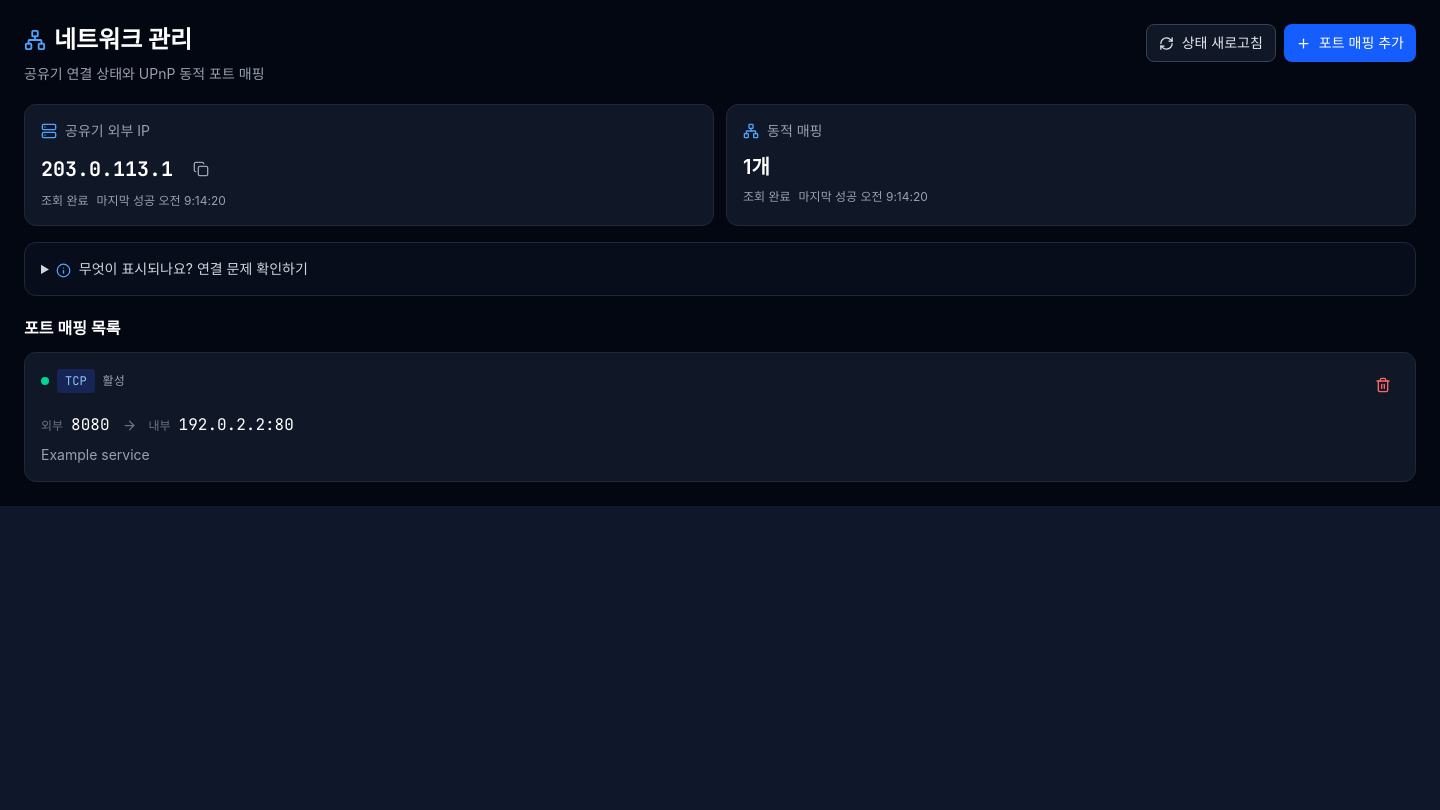
Scenario: 네트워크 상태와 복구 UX › 정수가 아닌 포트는 요청하지 않고 안내함
Expected: the text "Example service" is shown, [41,446,150,463]
Click the button "포트 매핑 추가".
click(1350, 43)  # box [1284,24,1416,62]
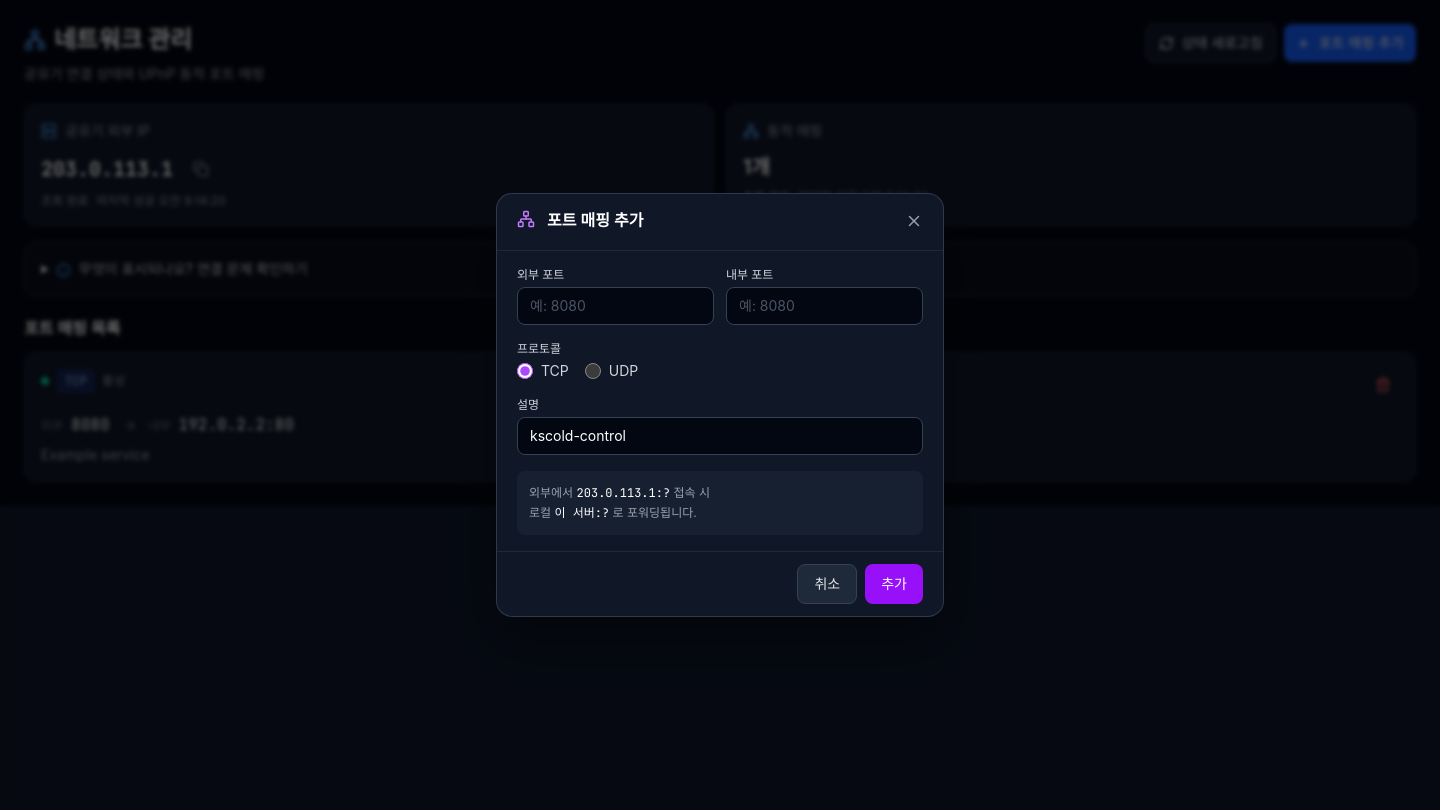
Type "80.5" into the number field labelled "외부 포트".
click(616, 306); type("80.5")  # box [517,287,714,325]
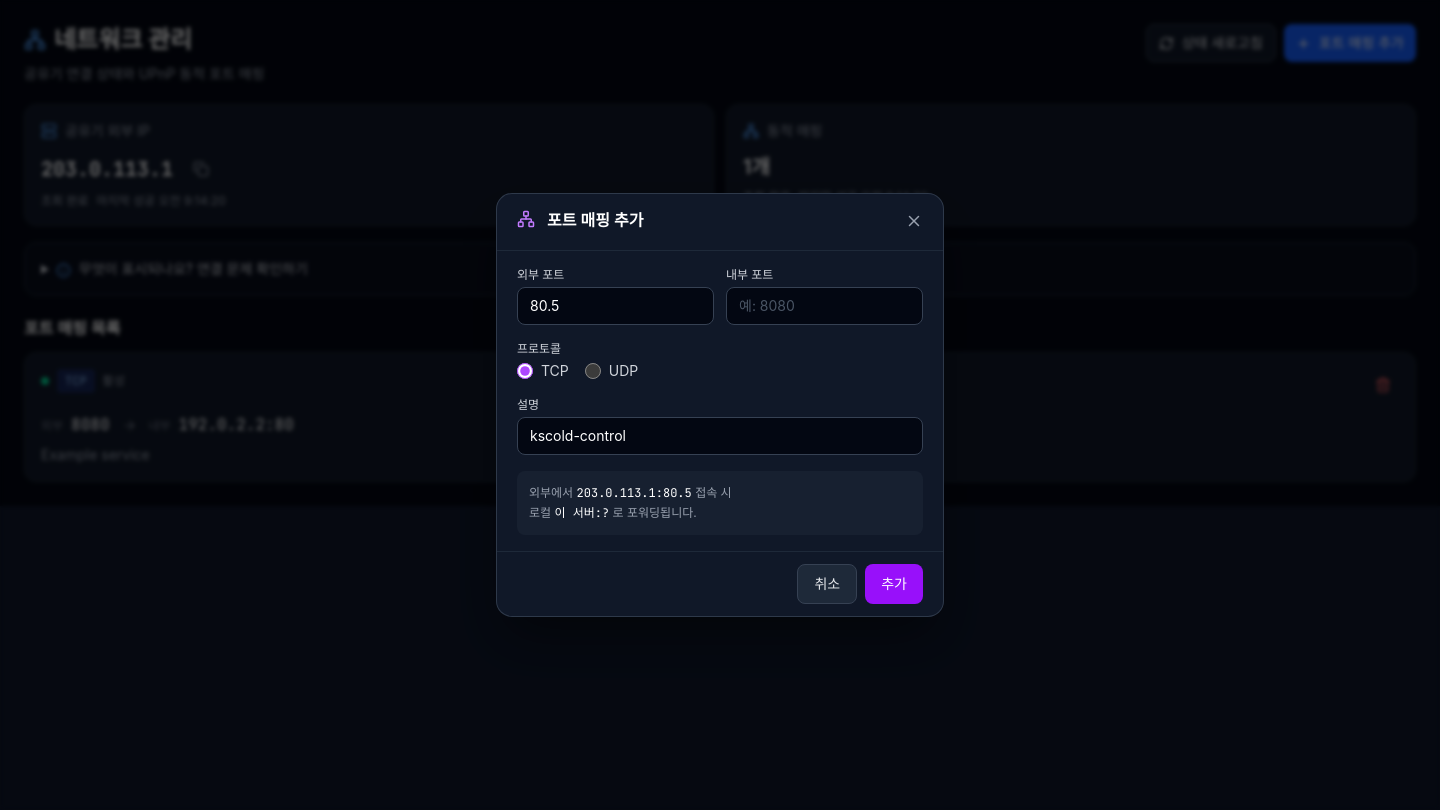
Type "80" into the number field labelled "내부 포트".
click(824, 306); type("80")  # box [726,287,923,325]
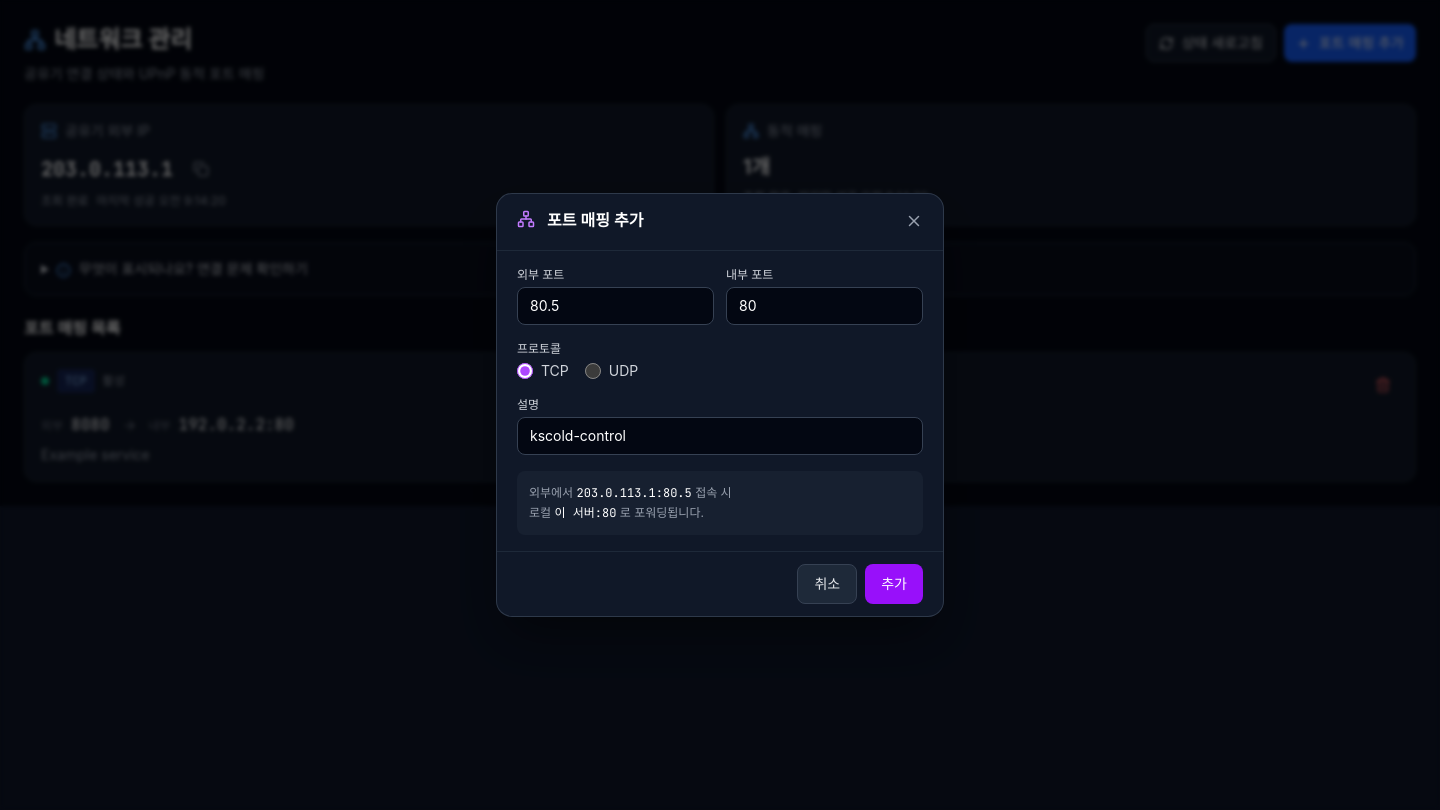
Click the button "추가".
click(894, 584)  # box [865,564,923,604]
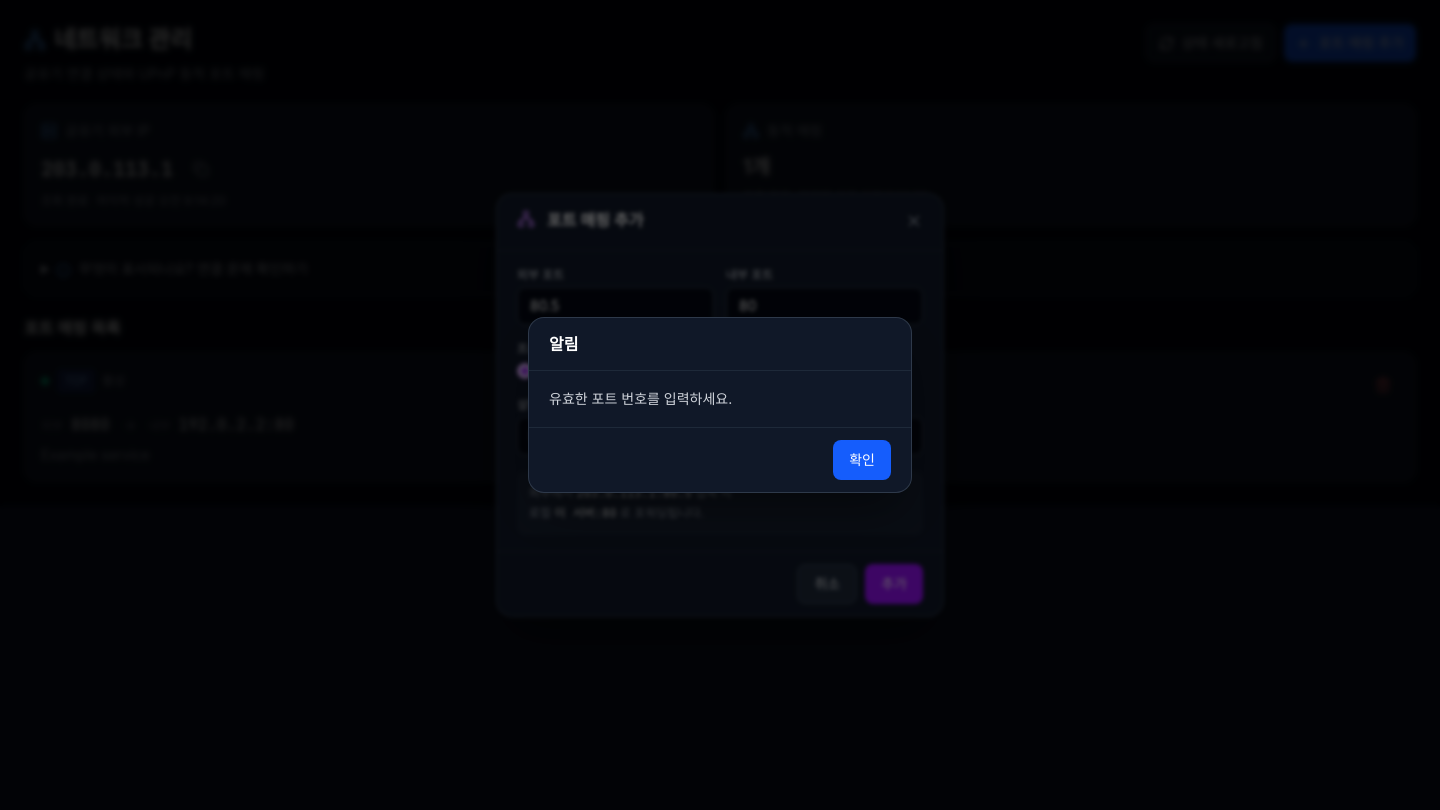
Expected: the dialog shows "유효한 포트 번호", [549,390,732,407]
